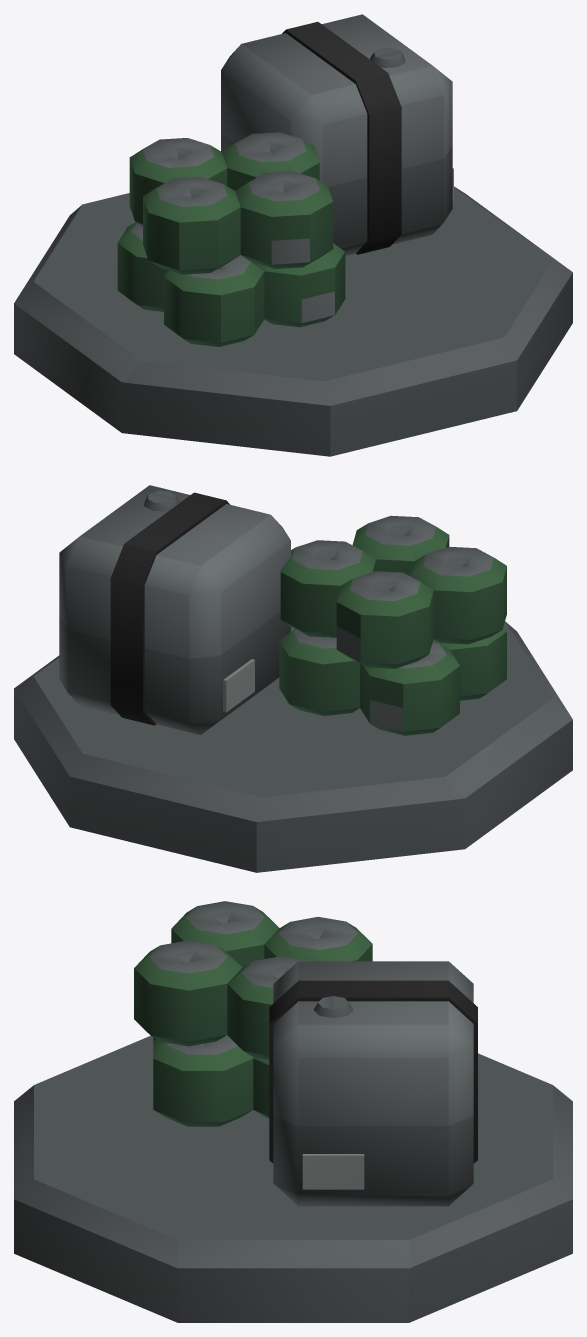
File: cargo-roof-DZbS9d2-.glb
3 renders of one model, top to bottom at view 1: azimuth 30°, elevation 25°; view 2: azimuth 150°, elevation 25°; view 3: azimuth 270°, elevation 25°, orthographic. The views are drawn at different scales.
Visible parts, largest first — view 1: roofmodule_cargo_A; view 2: roofmodule_cargo_A; view 3: roofmodule_cargo_A.
Part boxes in pixels (bbox=[...]): roofmodule_cargo_A: bbox=[14, 14, 572, 456]; roofmodule_cargo_A: bbox=[14, 485, 572, 872]; roofmodule_cargo_A: bbox=[14, 901, 572, 1322].
Bounding box in the file's own units: 1.4 × 0.72 × 1.4.
Materials: 1 (1 with a texture image).
